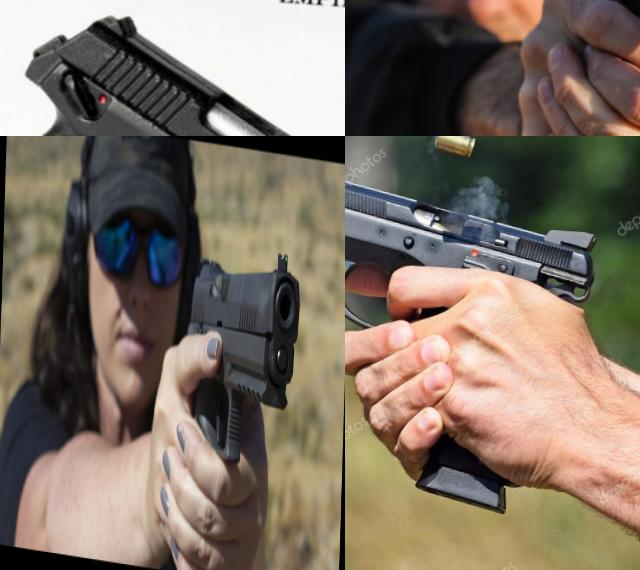handgun: (345, 140, 607, 527), (0, 0, 345, 136), (180, 233, 302, 488)
